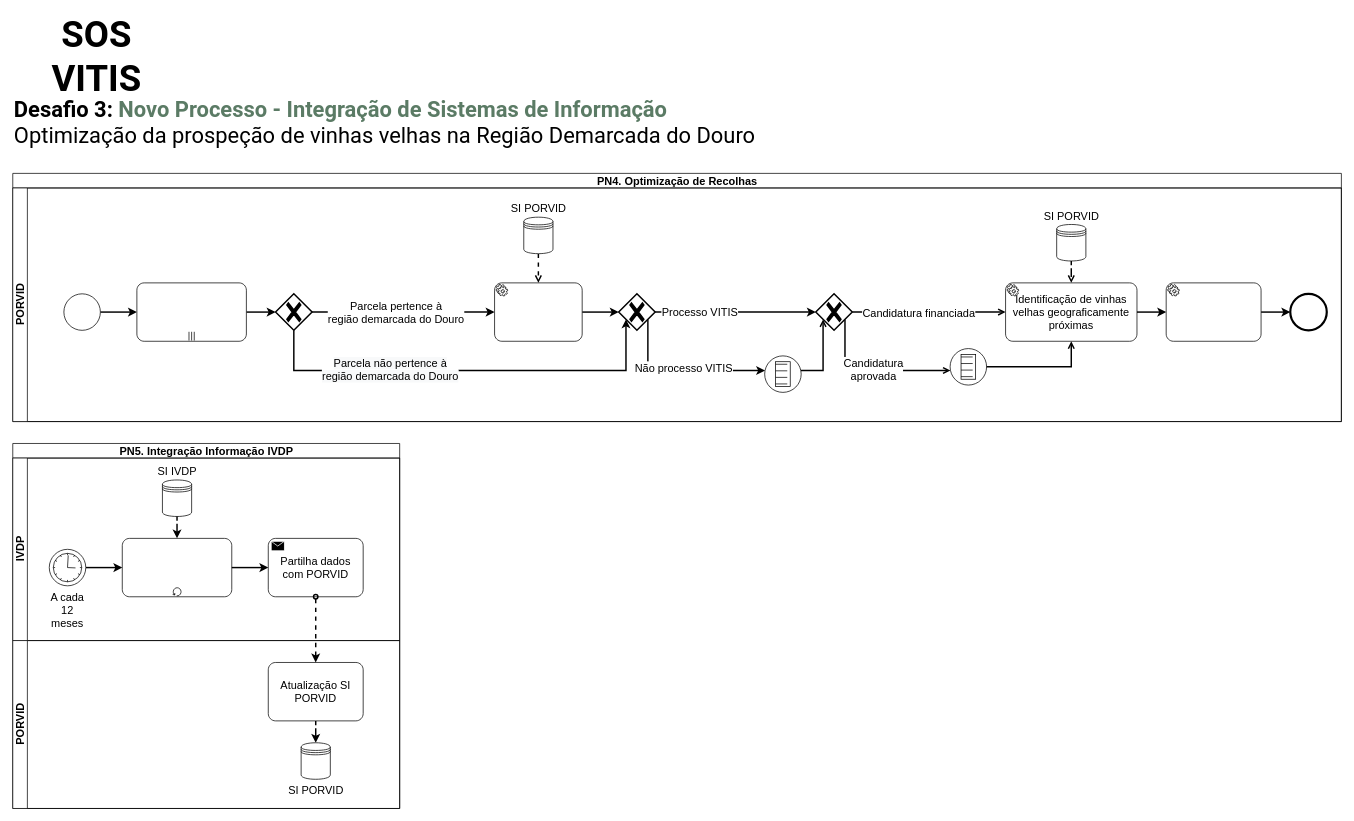
The diagram is 1354 pixels wide and 821 high, and some of its shapes have lost their labels. Here are the shapes that lost their labels. From the top down, the centre of each, then its label:
point (191, 311): Parcelas de interesse a prospetar
point (538, 311): Associar informação IVDP
point (1213, 311): Agrupamento de parcelas para recolha
point (782, 373): Processos VITIS terminados
point (968, 366): Candidaturas financiadas terminadas
point (177, 567): Preparação de informação sobre parcelas verificadas
